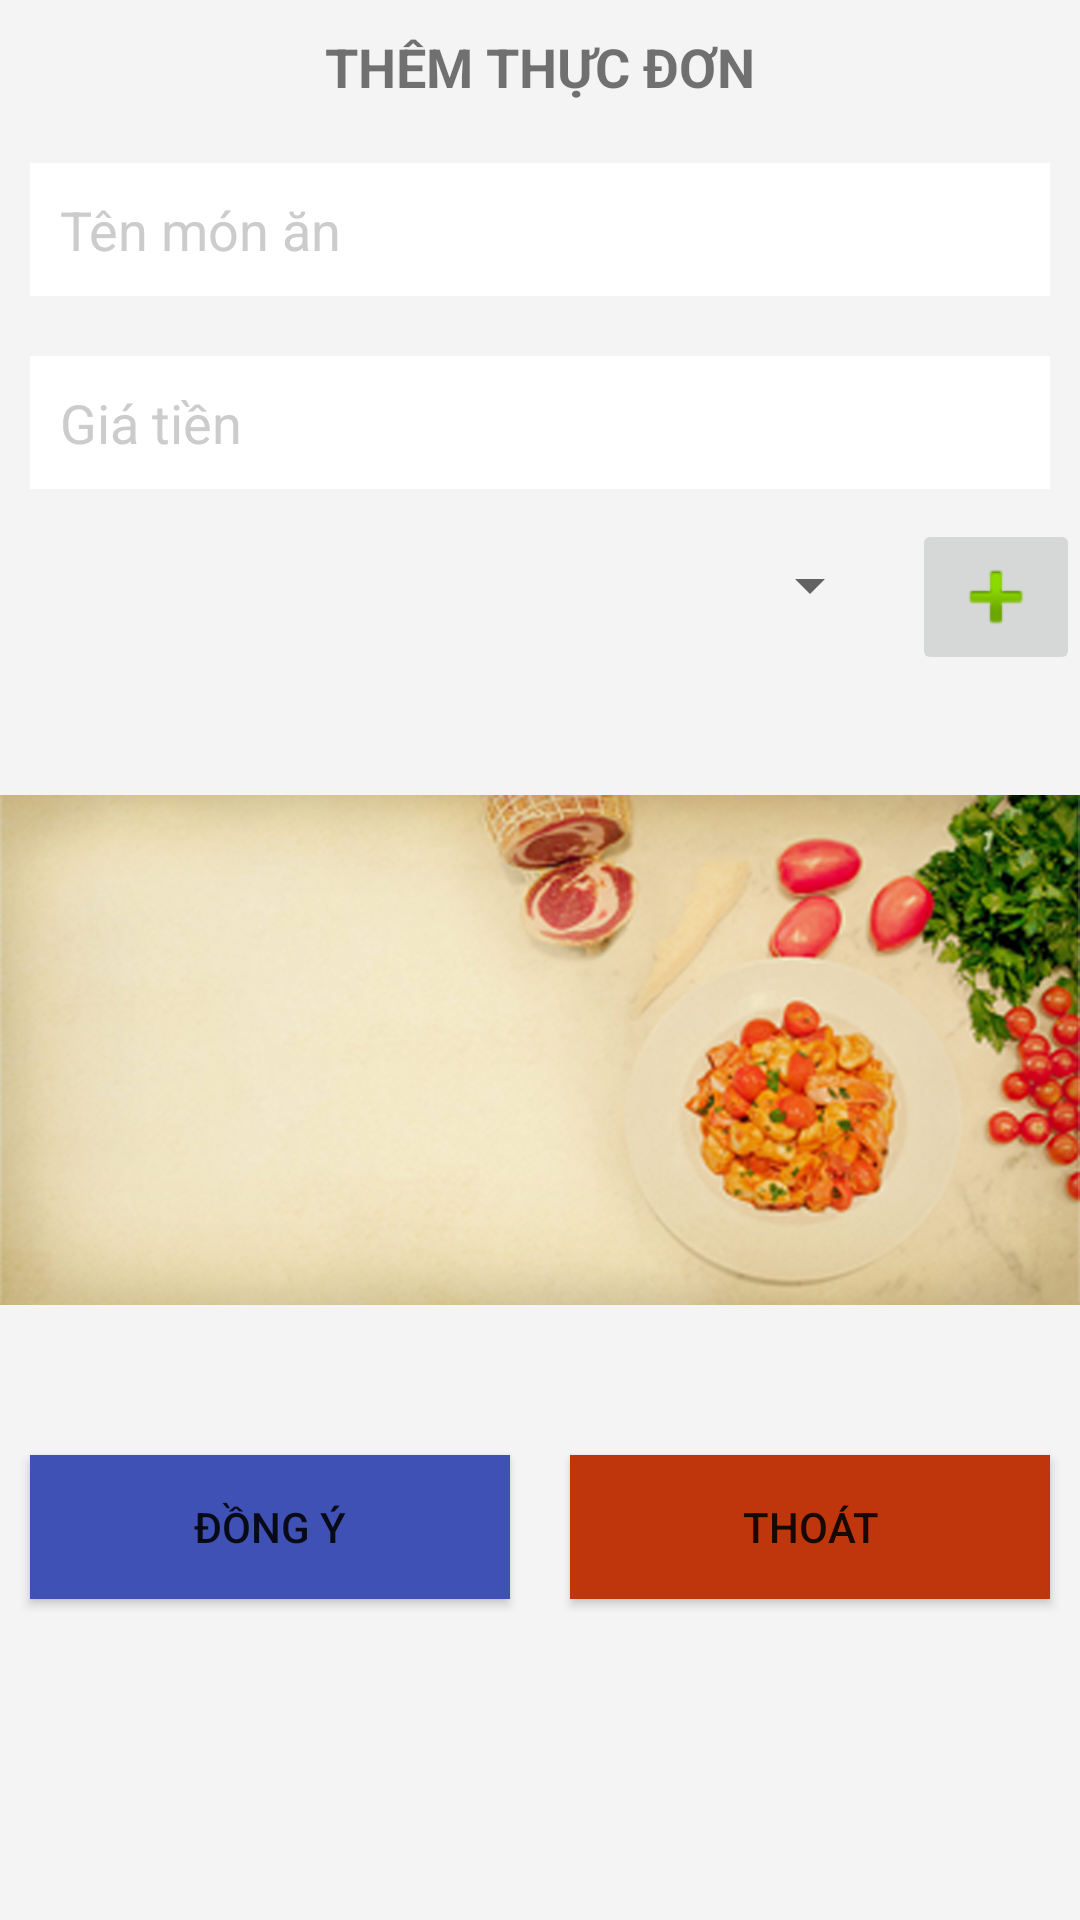

Named icons in this screenshot (1080x1920) and their centers, point (x, y):
add: point (996, 597)
